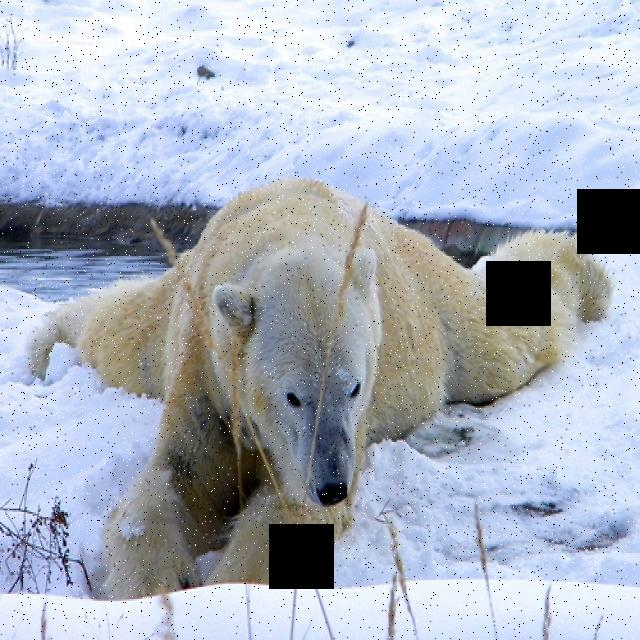Bear: (15, 169, 605, 606)
